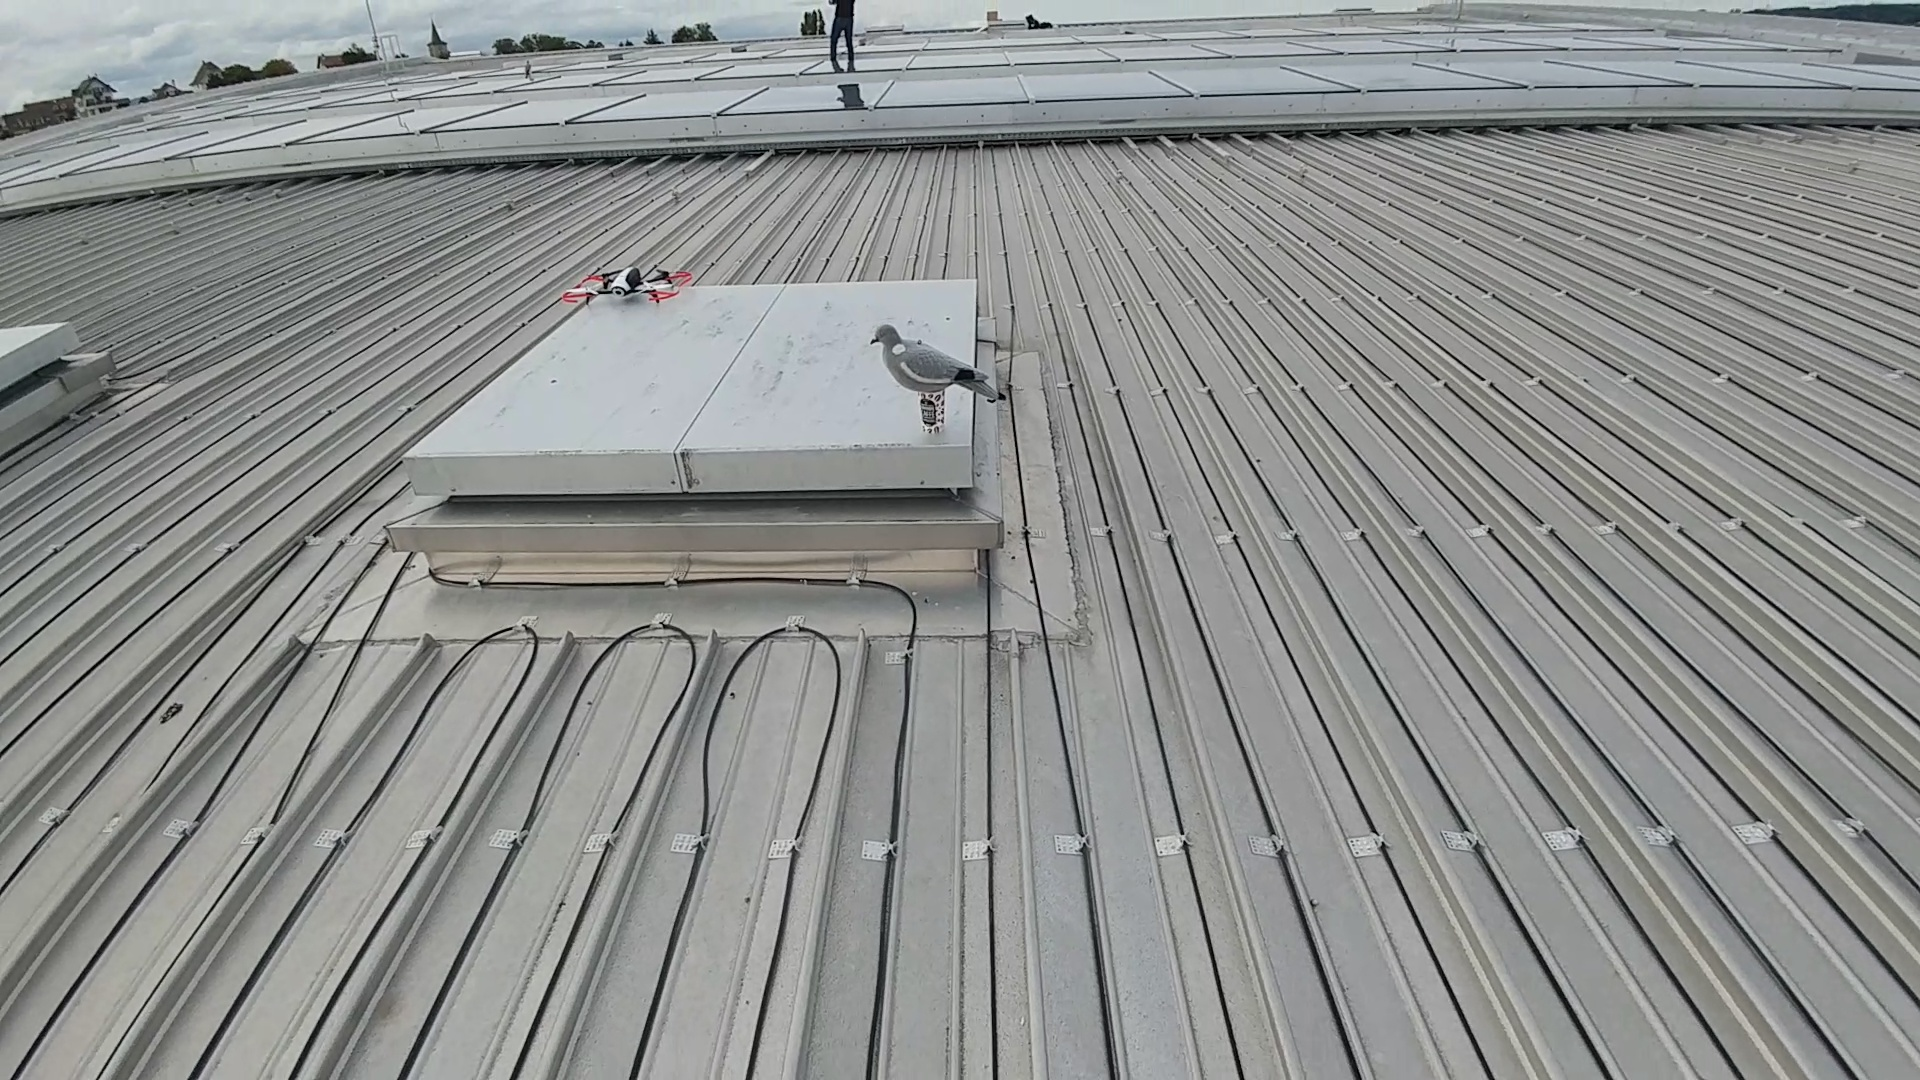Pigeon: (862, 316, 1010, 396)
